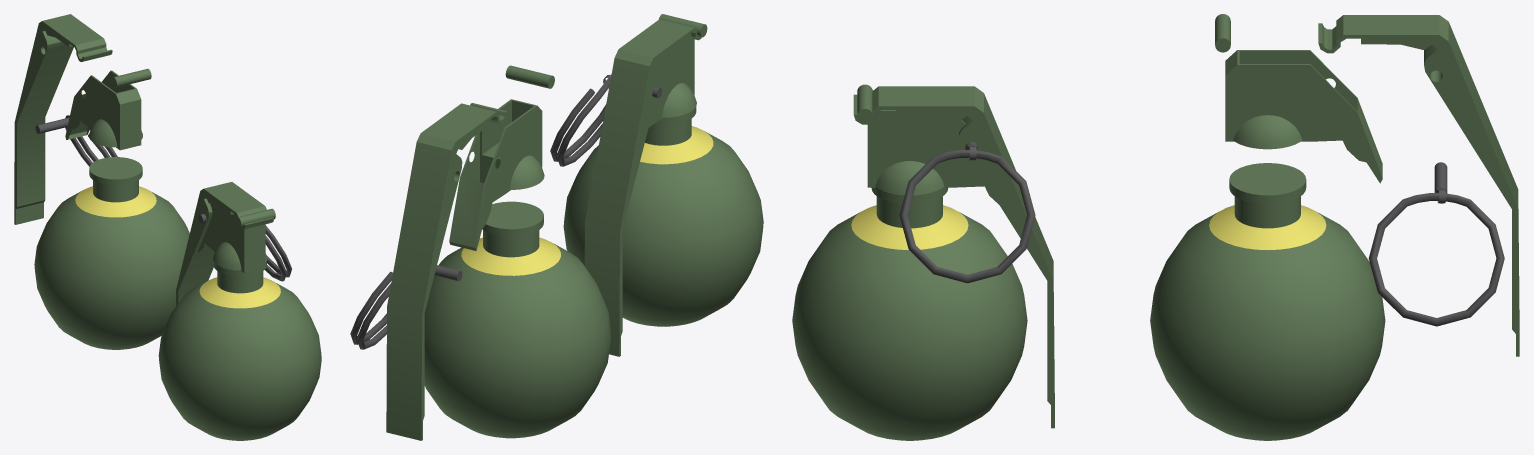
The model's file is m67_hand_granade_-_low_poly.glb.
3 renders of one model, left to right at view 1: azimuth 30°, elevation 25°; view 2: azimuth 150°, elevation 25°; view 3: azimuth 270°, elevation 25°, orthographic. The views are drawn at different scales.
Parts seen in each view (by area): view 1: Circle, Circle.003, Plane.001, Circle.002, Plane, Circle.001, Cylinder.001, Cylinder.002, Cylinder.003, Cylinder; view 2: Circle.003, Circle, Plane.001, Plane, Circle.002, Circle.001, Cylinder.001, Cylinder.002, Cylinder.003; view 3: Circle.003, Circle, Circle.002, Plane.001, Plane, Circle.001, Cylinder.002, Cylinder.001.
Boxes of the visible parts, <box> form: Circle: <box>158,261,321,440</box>; Circle.003: <box>34,157,189,349</box>; Plane.001: <box>14,14,112,224</box>; Circle.002: <box>65,70,142,150</box>; Plane: <box>176,182,273,306</box>; Circle.001: <box>198,204,267,272</box>; Cylinder.001: <box>198,213,291,281</box>; Cylinder.002: <box>35,115,117,166</box>; Cylinder.003: <box>111,68,151,87</box>; Cylinder: <box>235,208,275,227</box>; Circle.003: <box>424,201,611,438</box>; Circle: <box>563,106,763,326</box>; Plane.001: <box>386,103,506,440</box>; Plane: <box>584,19,701,356</box>; Circle.002: <box>449,99,544,250</box>; Circle.001: <box>648,34,696,127</box>; Cylinder.001: <box>550,74,662,166</box>; Cylinder.002: <box>350,265,462,349</box>; Cylinder.003: <box>505,65,554,88</box>; Circle.003: <box>1150,163,1385,440</box>; Circle: <box>792,187,1027,440</box>; Circle.002: <box>1225,50,1382,183</box>; Plane.001: <box>1318,15,1519,356</box>; Plane: <box>853,86,1054,428</box>; Circle.001: <box>867,110,998,204</box>; Cylinder.002: <box>1368,162,1504,326</box>; Cylinder.001: <box>899,142,1035,283</box>.
Bounding box in the file's own units: 1.7 × 3.2 × 5.24.
